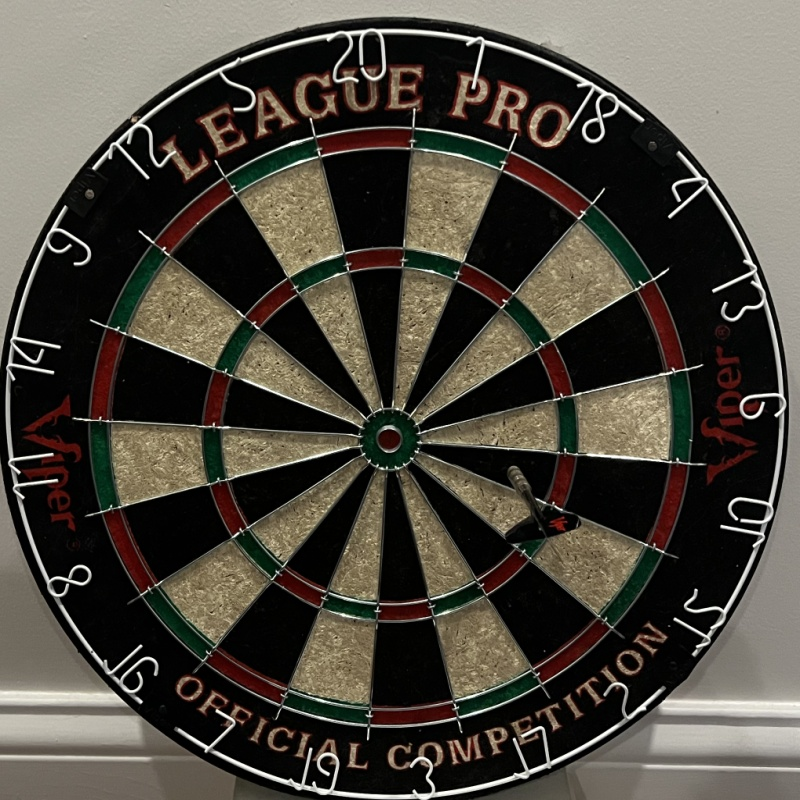dart: (501, 460, 522, 483)
eleven: (9, 450, 58, 499)
six: (739, 392, 787, 418)
three: (409, 756, 436, 799)
twenty: (329, 30, 388, 84)
